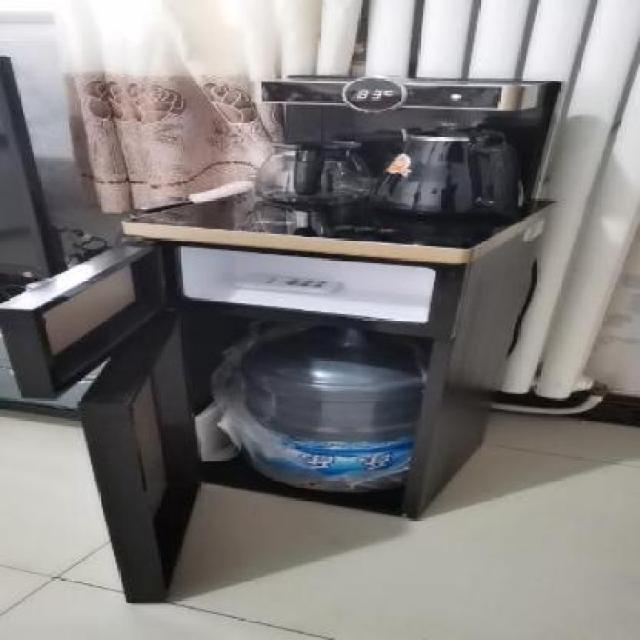coolerbottle: (245, 316, 437, 500)
